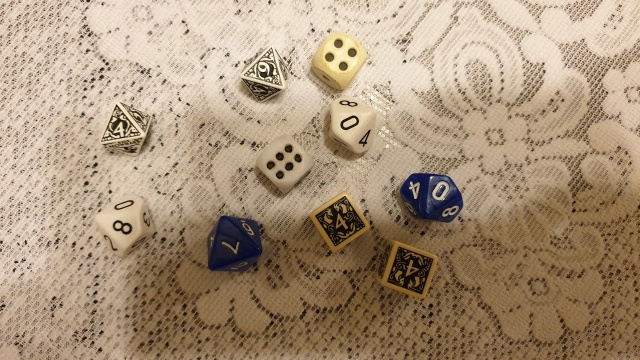d10-10: (396, 165, 469, 229), (320, 92, 388, 157)
d10-7: (199, 212, 269, 277)
d10-8: (85, 185, 161, 261)
d6-4: (309, 28, 369, 92)
d6-6: (250, 133, 317, 192)
d6p-4: (372, 236, 439, 302), (308, 194, 370, 253)
d8p-4: (94, 98, 152, 158)
d8p-6: (236, 42, 292, 103)
